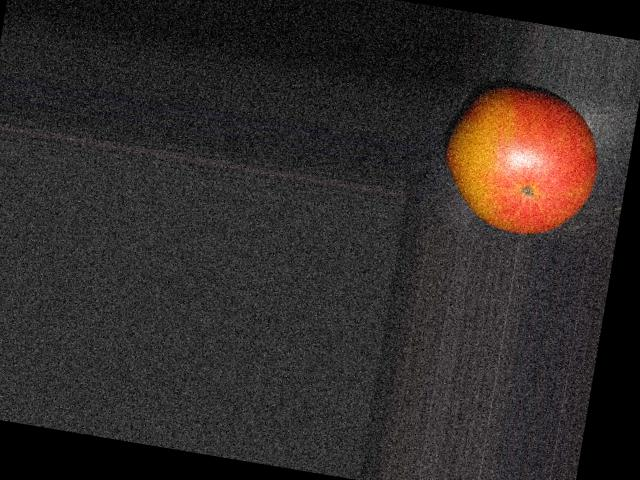tomato: (436, 77, 608, 244)
